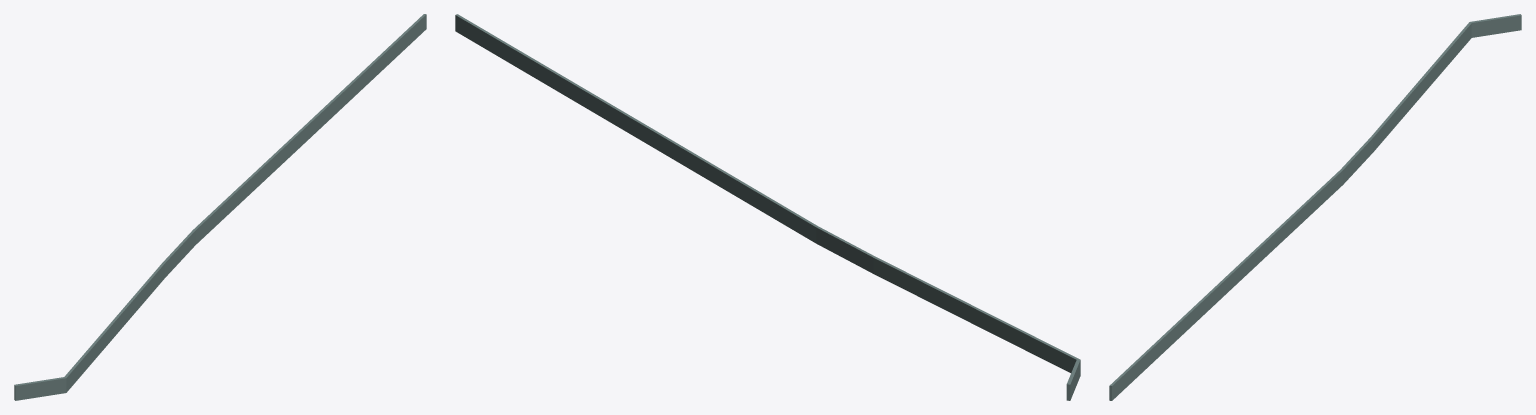
The model's file is Grass_002.fbx.
3 views of the same model, side by side, from view 1: azimuth 90°, elevation 25°; view 2: azimuth 150°, elevation 25°; view 3: azimuth 270°, elevation 25° (orthographic). The views are drawn at different scales.
Visible parts, largest first — view 1: Grass.002; view 2: Grass.002; view 3: Grass.002.
Part boxes in pixels (x1=…): Grass.002: x1=14, y1=14, x2=426, y2=400; Grass.002: x1=455, y1=14, x2=1080, y2=400; Grass.002: x1=1109, y1=14, x2=1521, y2=400.
Bounding box in the file's own units: 61.88 × 1.15 × 28.98.
